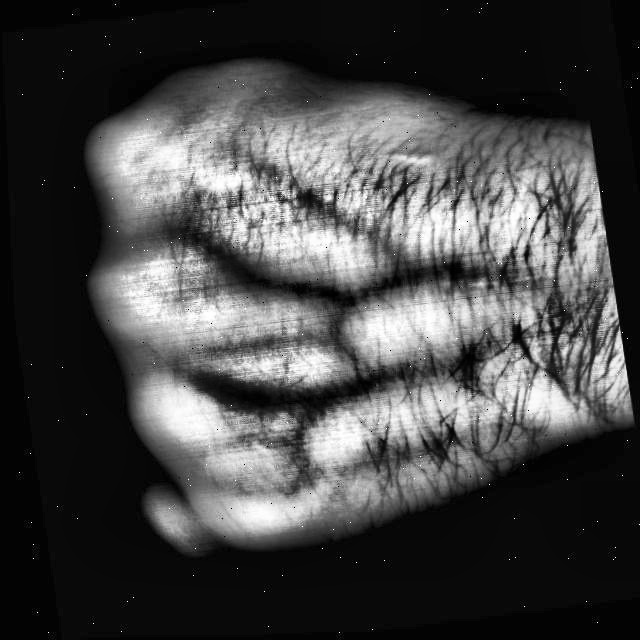Vein: (321, 335, 524, 411), (357, 246, 533, 308)
